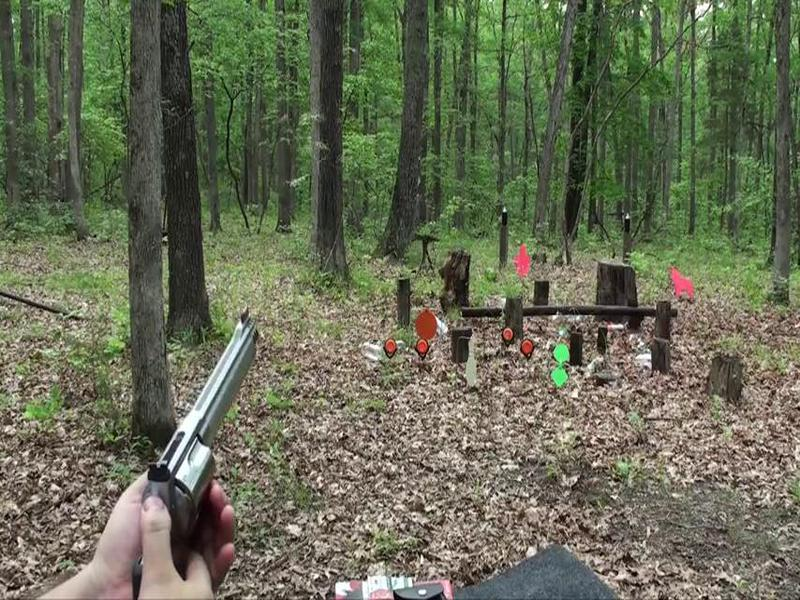Revolver: (128, 312, 284, 555)
